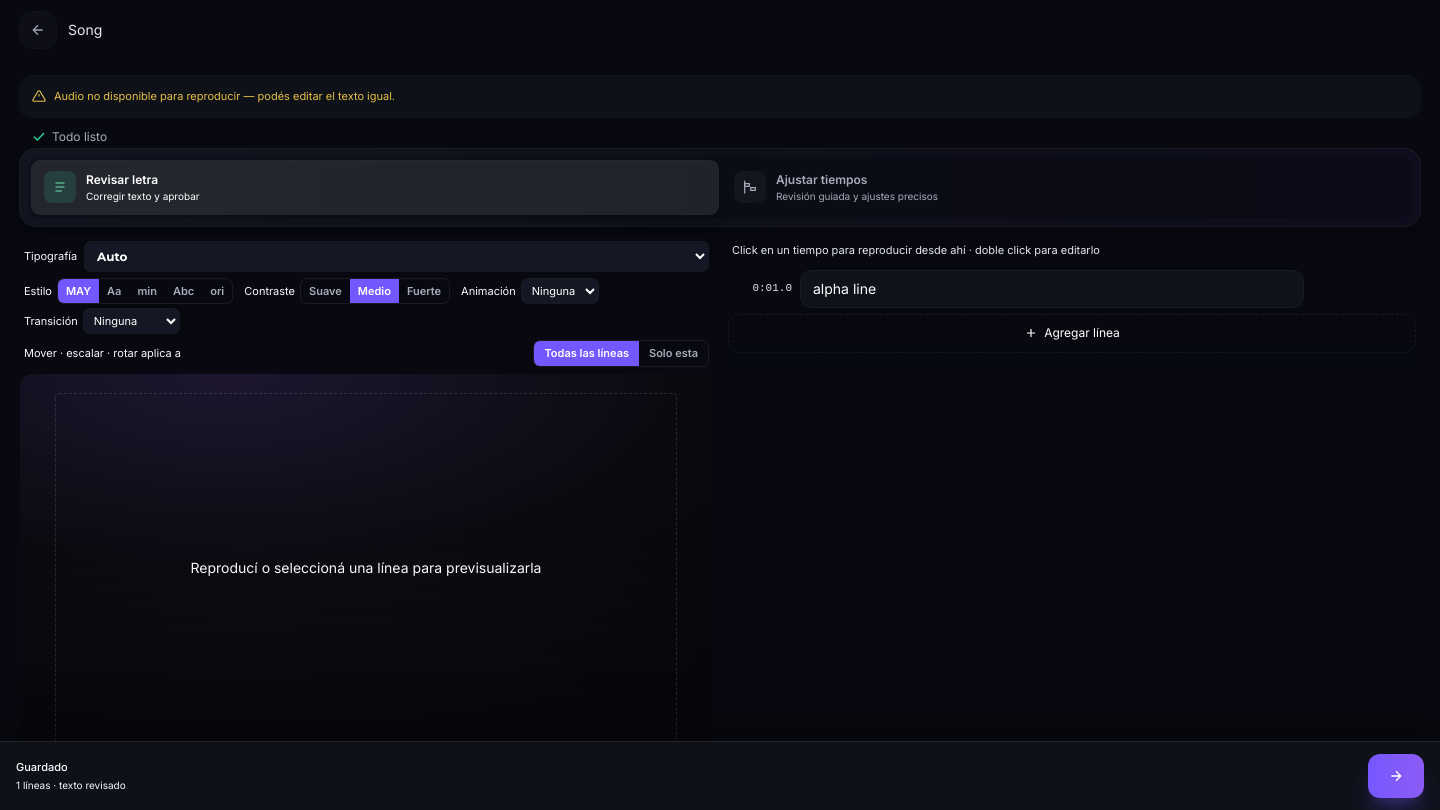
Test: banner de fallo de respaldo — copy por causa › un fallo de red real SÍ dice 'problema de red'
Replace the text in the field showing "alpha line" with "alpha line editada" at (1052, 289), box [800, 270, 1304, 308]
Wait 3100 ms
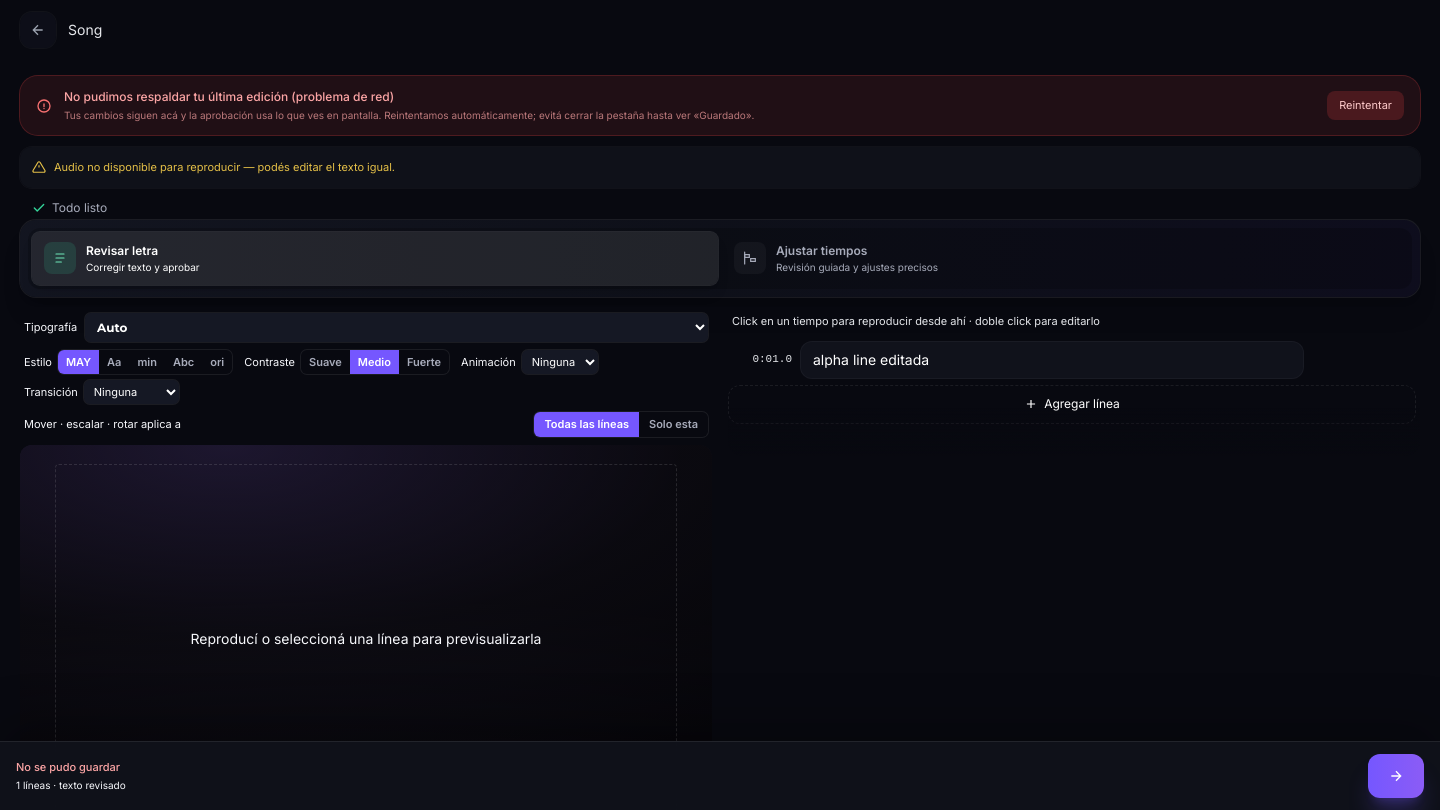
Expected: the text "No pudimos respaldar tu última edición (problema de red)" is shown, [64, 89, 394, 104]
